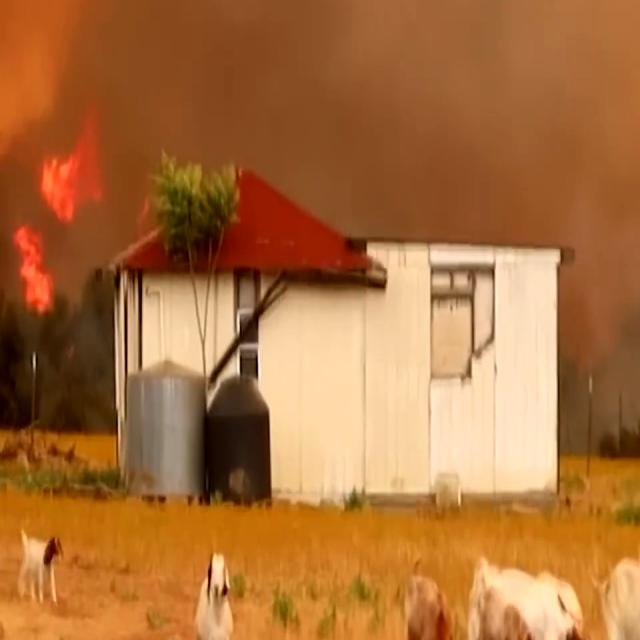fire: (5, 143, 109, 306)
smoke: (0, 0, 492, 135)
